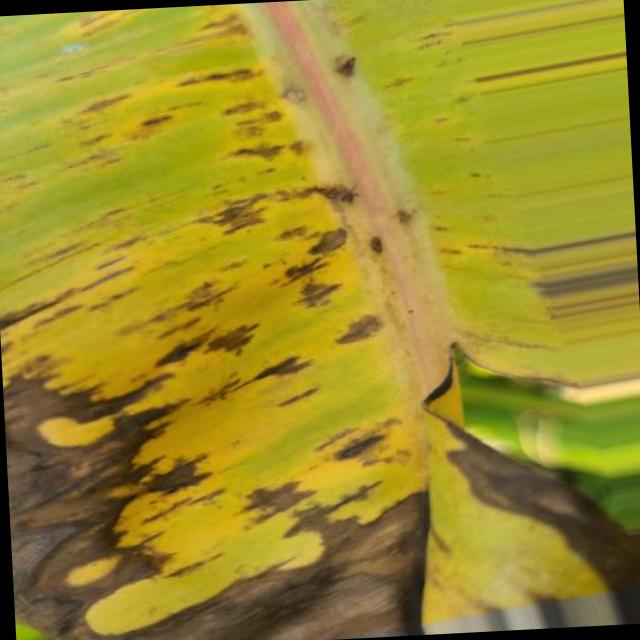Banana_Black_Sigatoka: (0, 270, 268, 640), (179, 39, 458, 393), (260, 370, 615, 640)
